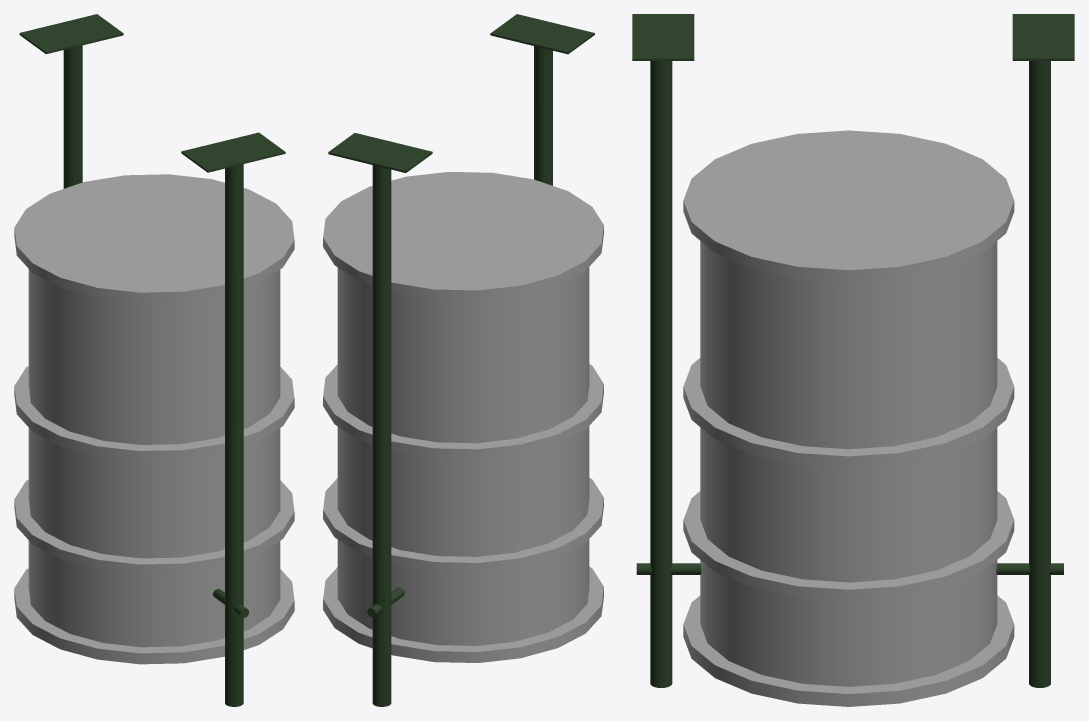
The model's file is botecito de basura.fbx.
3 views of the same model, side by side, from view 1: azimuth 30°, elevation 25°; view 2: azimuth 150°, elevation 25°; view 3: azimuth 270°, elevation 25° (orthographic). The views are drawn at different scales.
Parts seen in each view (by area): view 1: pCylinder1, pCube10, pCylinder7; view 2: pCylinder1, pCylinder7, pCube10; view 3: pCylinder1, pCube10, pCylinder7.
Boxes of the visible parts, bbox=[...] form: pCylinder1: bbox=[14, 174, 294, 664]; pCube10: bbox=[181, 132, 285, 706]; pCylinder7: bbox=[19, 14, 123, 188]; pCylinder1: bbox=[323, 172, 603, 662]; pCylinder7: bbox=[328, 133, 432, 706]; pCube10: bbox=[490, 14, 594, 185]; pCylinder1: bbox=[683, 130, 1014, 706]; pCube10: bbox=[632, 14, 701, 687]; pCylinder7: bbox=[996, 14, 1074, 687].
Bounding box in the file's own units: 2.23 × 4.81 × 2.98.
